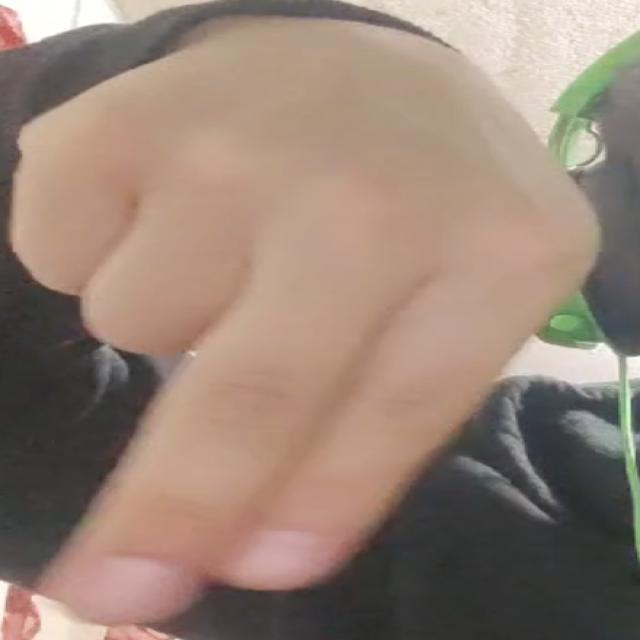N: (12, 15, 614, 628)
